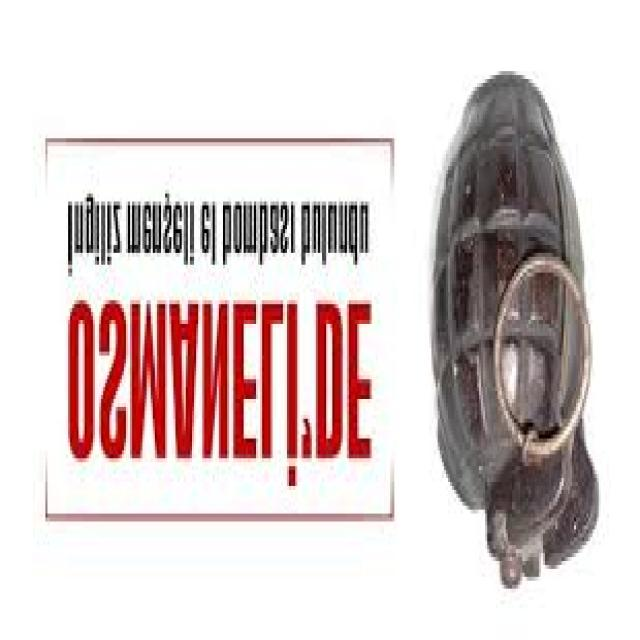grenade: (432, 72, 604, 598)
